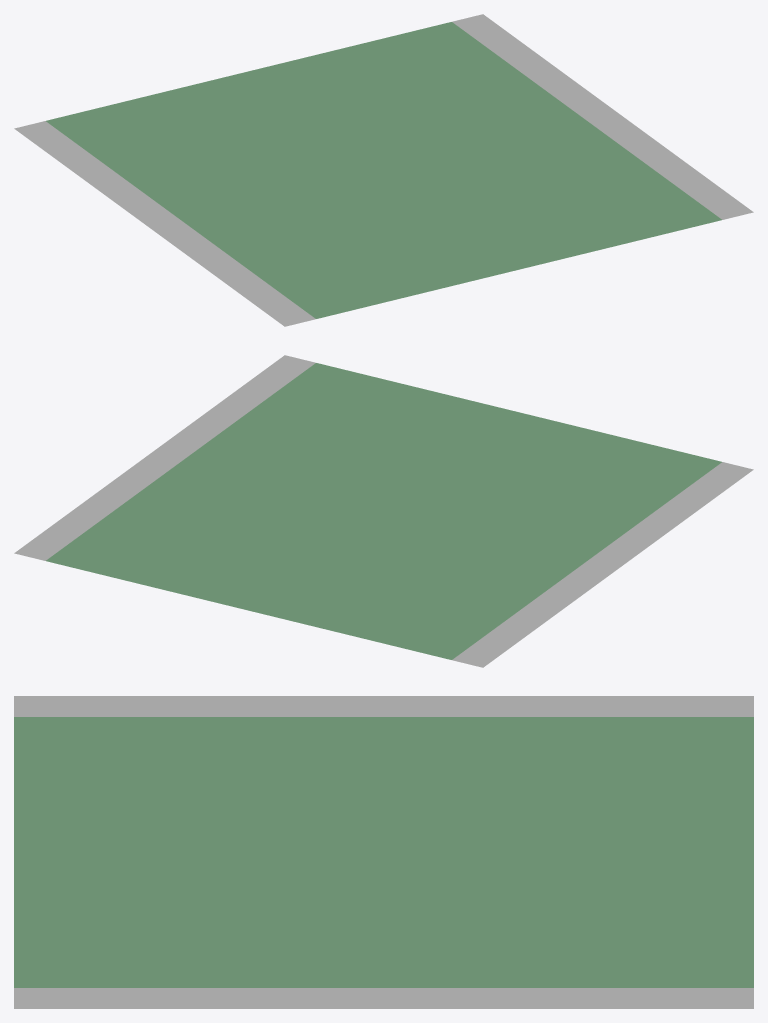
File: SM_GroundHuman_S02_L01_01.fbx
3 views of the same model, one above another, from view 1: azimuth 30°, elevation 25°; view 2: azimuth 150°, elevation 25°; view 3: azimuth 270°, elevation 25° (orthographic). The views are drawn at different scales.
Visible parts, largest first — view 1: SM_GroundHuman_S02_L01_01; view 2: SM_GroundHuman_S02_L01_01; view 3: SM_GroundHuman_S02_L01_01.
Part boxes in pixels (x1,y1,x2,y2): SM_GroundHuman_S02_L01_01: [14, 14, 753, 326]; SM_GroundHuman_S02_L01_01: [14, 355, 753, 667]; SM_GroundHuman_S02_L01_01: [14, 696, 753, 1008].
Bounding box in the file's own units: 200 × 0 × 200.
